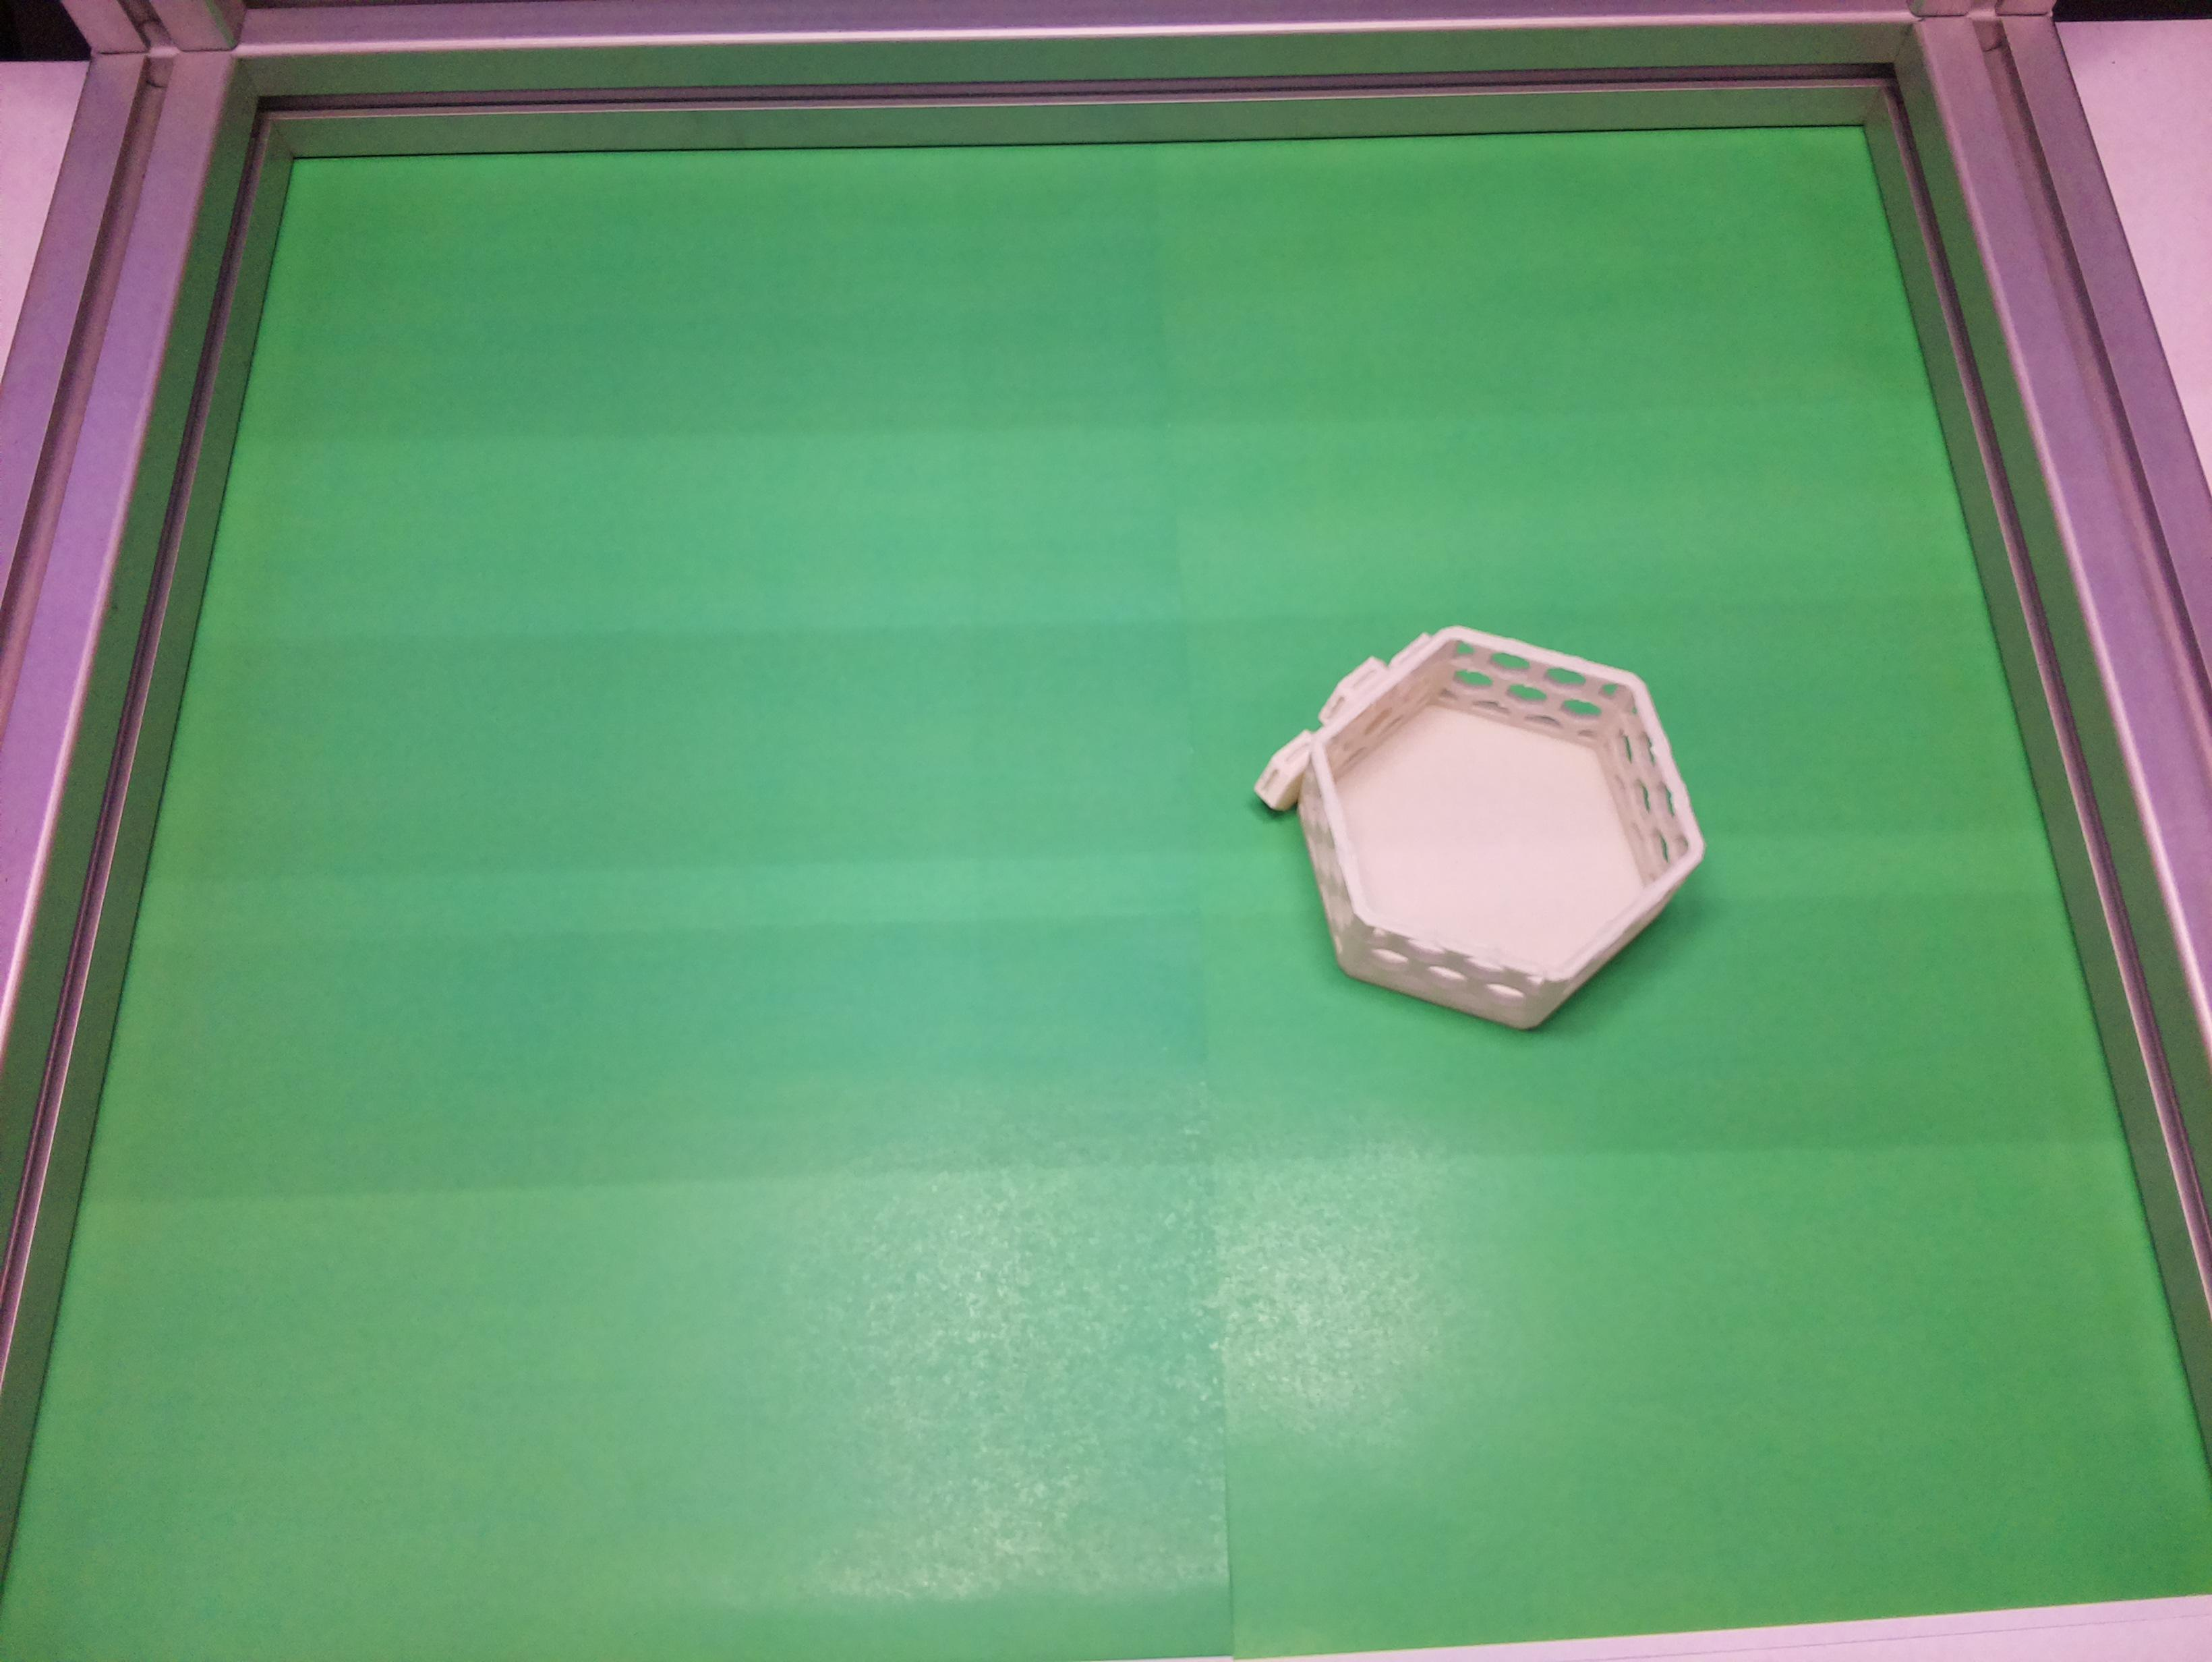bottle_holder: (1198, 531, 1767, 1098)
